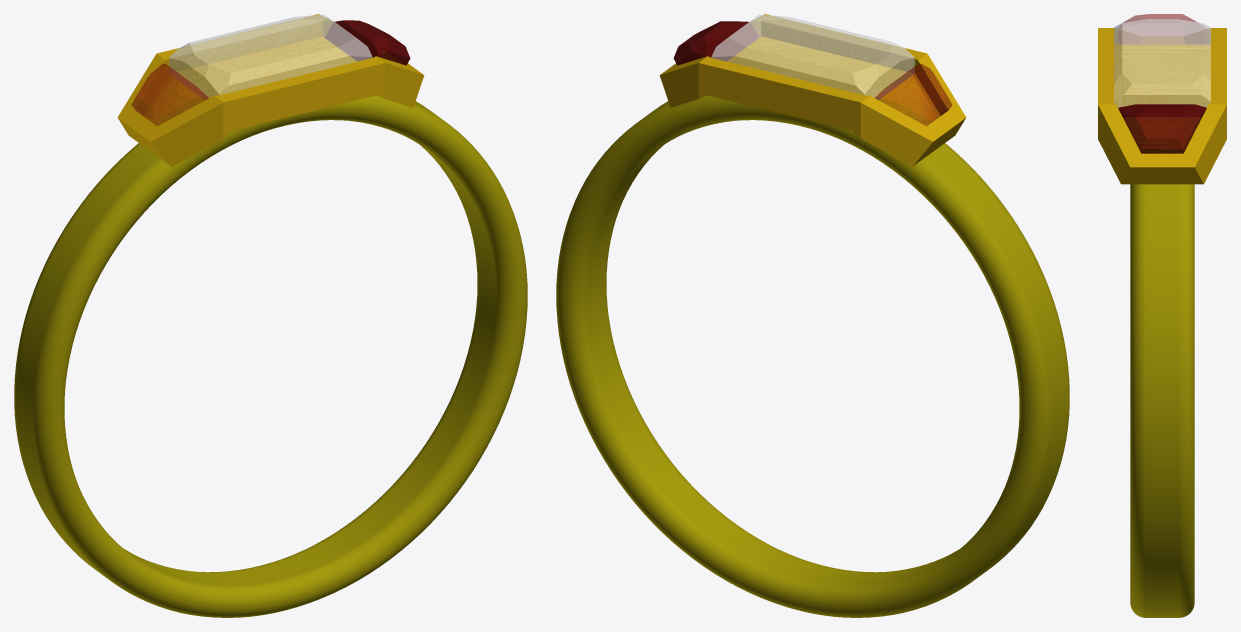
File: ring_1.glb
3 views of the same model, side by side, from view 1: azimuth 30°, elevation 25°; view 2: azimuth 150°, elevation 25°; view 3: azimuth 270°, elevation 25° (orthographic). The views are drawn at different scales.
Parts seen in each view (by area): view 1: prsten (×5); view 2: prsten (×5); view 3: prsten (×5).
Part boxes in pixels (x1,y1,x2,y2): prsten (×5): (14,14,527,617); prsten (×5): (556,14,1069,617); prsten (×5): (1098,14,1226,617).
Size of the model in its own units: 0.017 by 0.0185 by 0.004.
